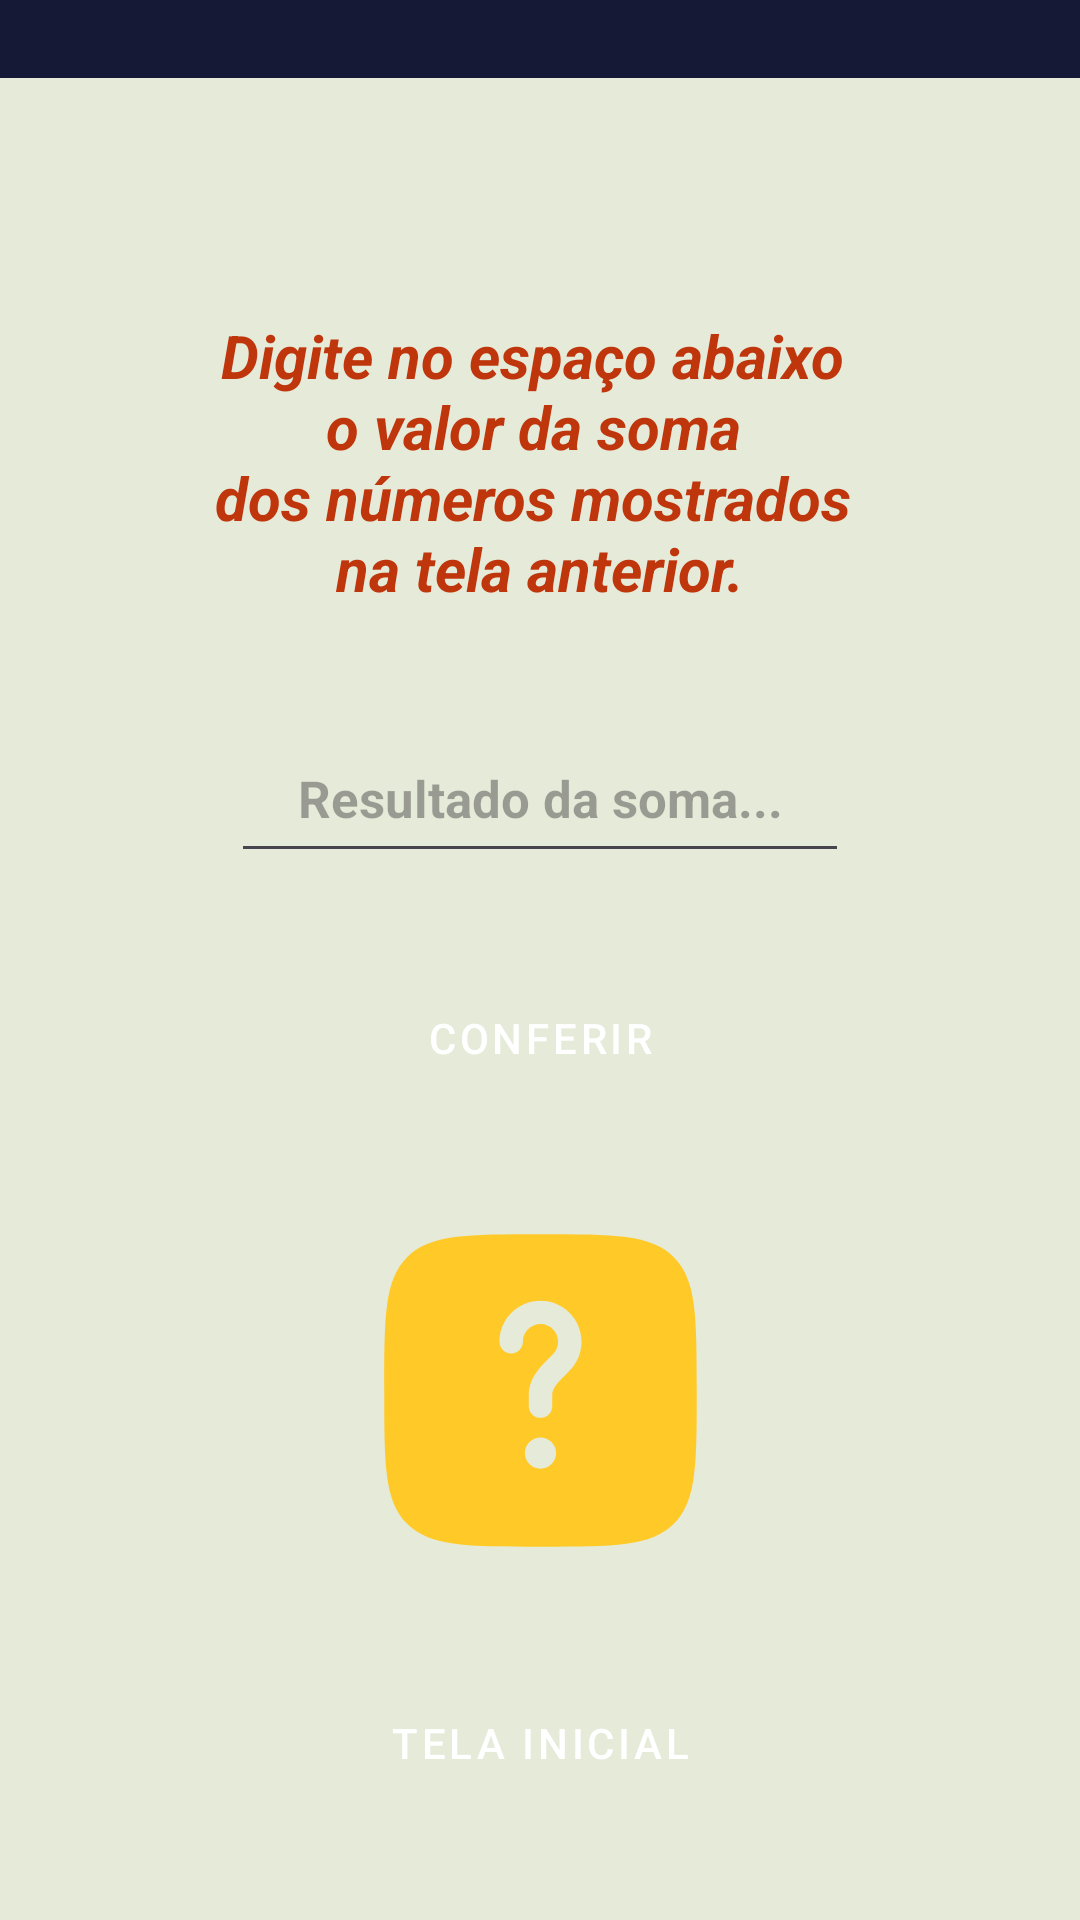

Icons on this 1080 x 1920 Android screen, each with its box as (x1, y1, x2, y2):
question square: (384, 1234, 697, 1547)
